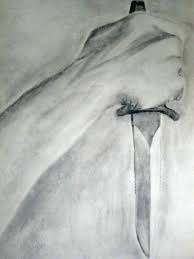knife: (121, 1, 180, 259)
